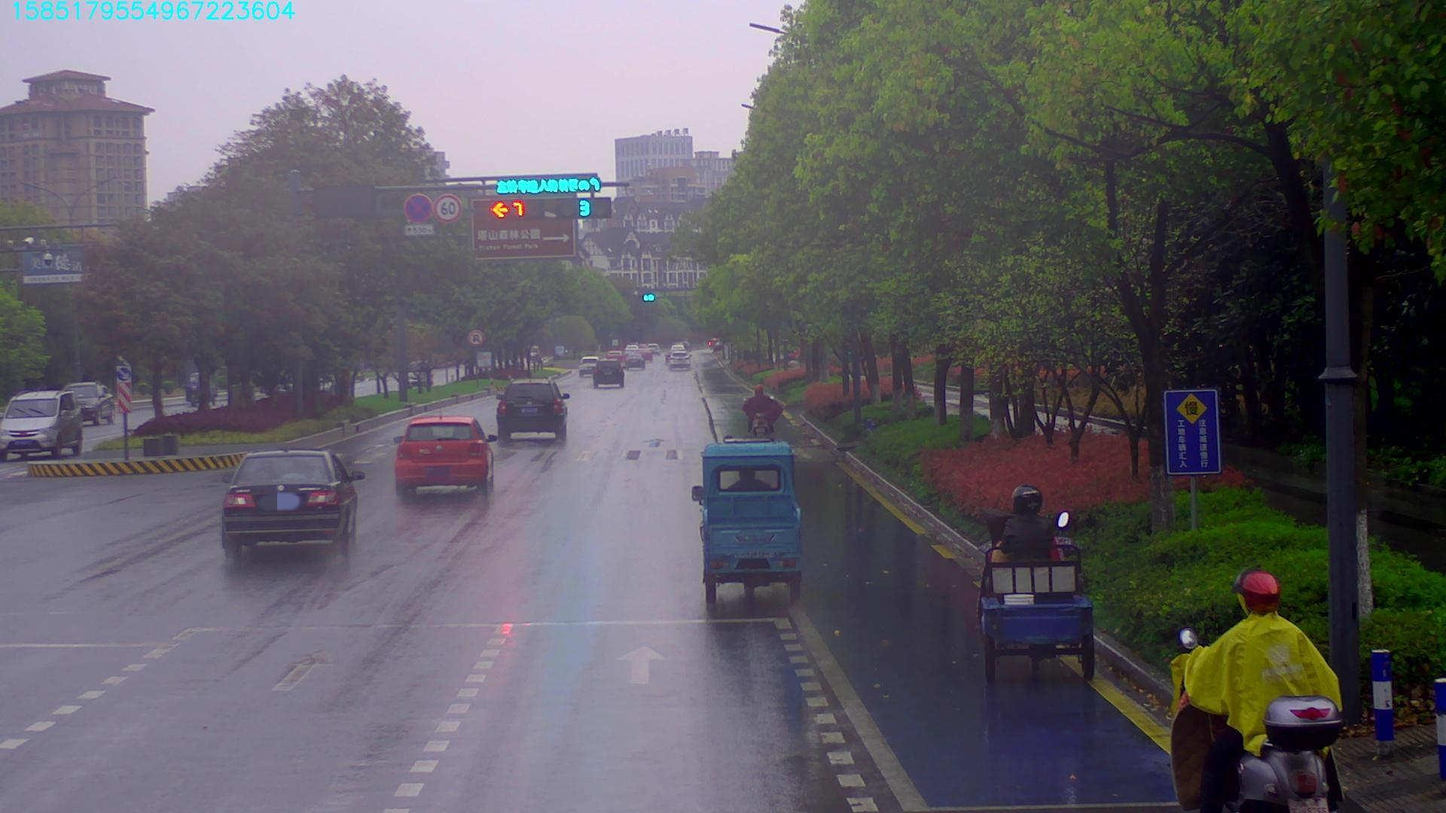green: (559, 197, 607, 224)
red: (479, 202, 532, 219)
wait_on: (499, 173, 600, 191)
